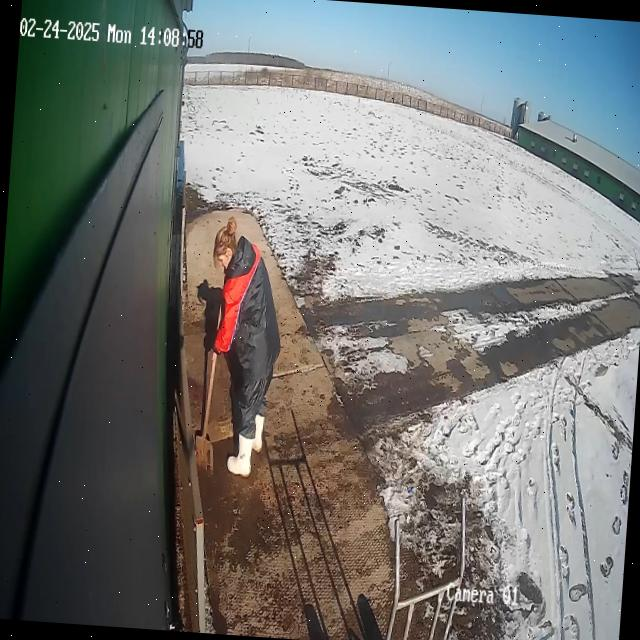Red uniform: (194, 214, 291, 482)
